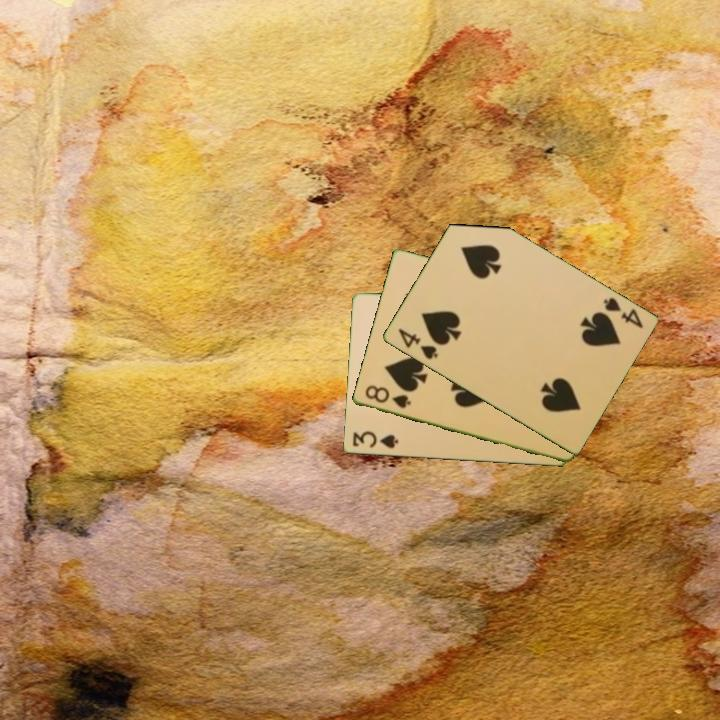3s: (349, 428, 401, 451)
4s: (394, 325, 441, 362), (600, 294, 646, 331)
8s: (361, 382, 414, 412)
